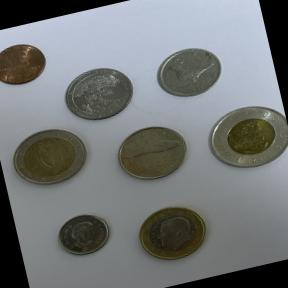coin: (198, 93, 288, 183), (1, 119, 99, 198), (129, 195, 220, 275), (106, 117, 198, 193), (56, 58, 144, 128), (48, 204, 122, 269), (0, 34, 53, 94)
